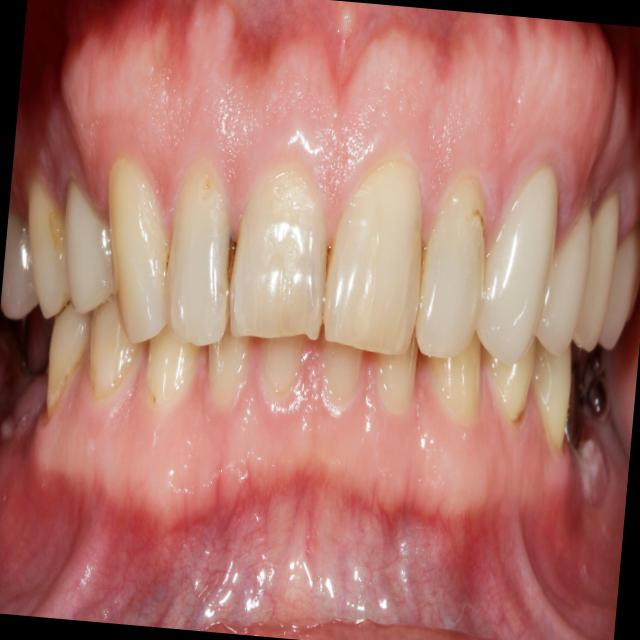Cavity: (199, 174, 217, 204), (226, 236, 236, 290)
Tooth: (324, 158, 422, 355), (229, 160, 326, 339), (475, 166, 557, 365), (165, 159, 236, 345), (415, 177, 485, 358), (107, 156, 169, 343), (535, 209, 591, 354), (572, 192, 618, 352), (65, 172, 115, 313), (28, 179, 70, 319), (89, 289, 140, 399), (46, 298, 93, 417), (598, 221, 640, 349), (427, 330, 481, 416), (145, 323, 200, 405), (530, 336, 570, 448), (481, 340, 535, 419), (378, 325, 418, 407), (208, 316, 249, 395), (320, 332, 363, 400), (260, 334, 302, 395)
